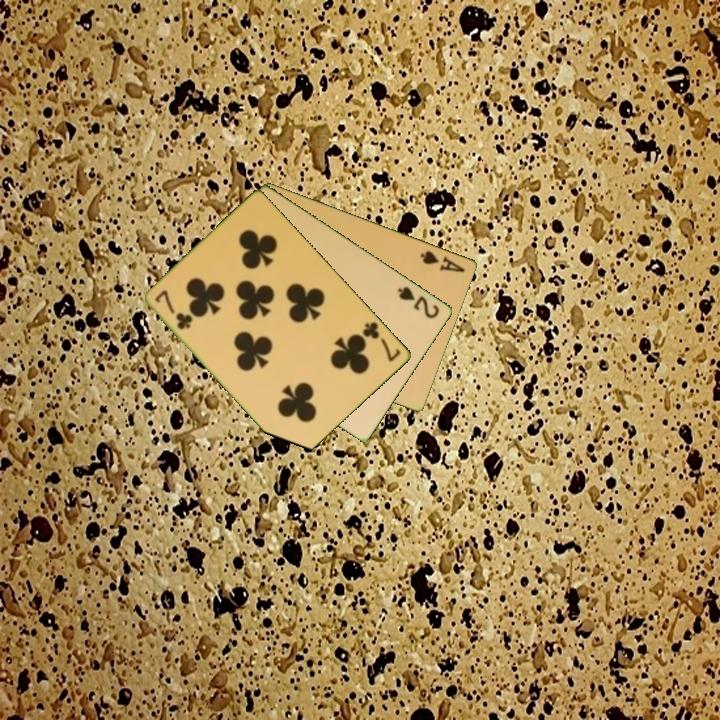2s: (394, 282, 443, 321)
7c: (359, 318, 404, 365), (151, 286, 196, 333)
As: (417, 247, 468, 275)
